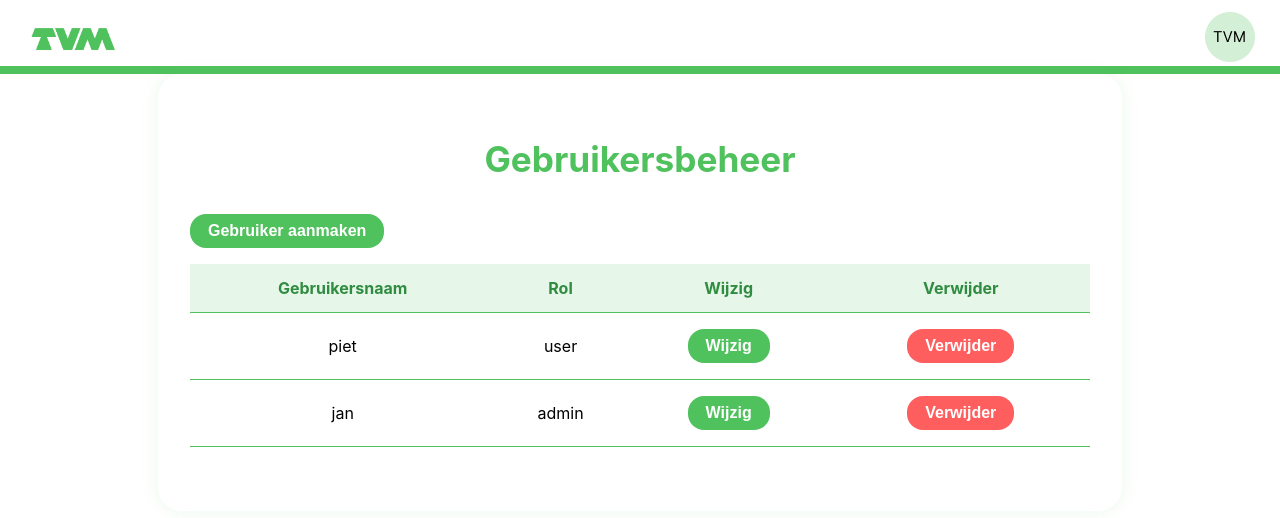
Test: kan toevoegen van gebruiker annuleren
# Open het formulier
Click the button "Gebruiker aanmaken".
click(287, 231)  # box [190,214,384,248]
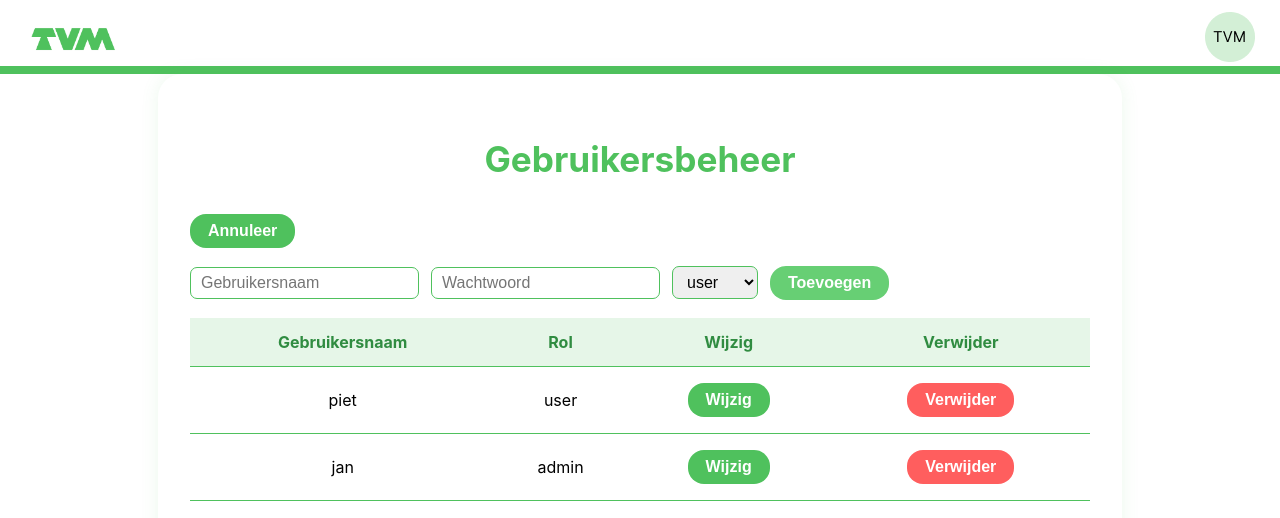
# Klik op Annuleer
Click the button "Annuleer".
click(243, 231)  # box [190,214,295,248]
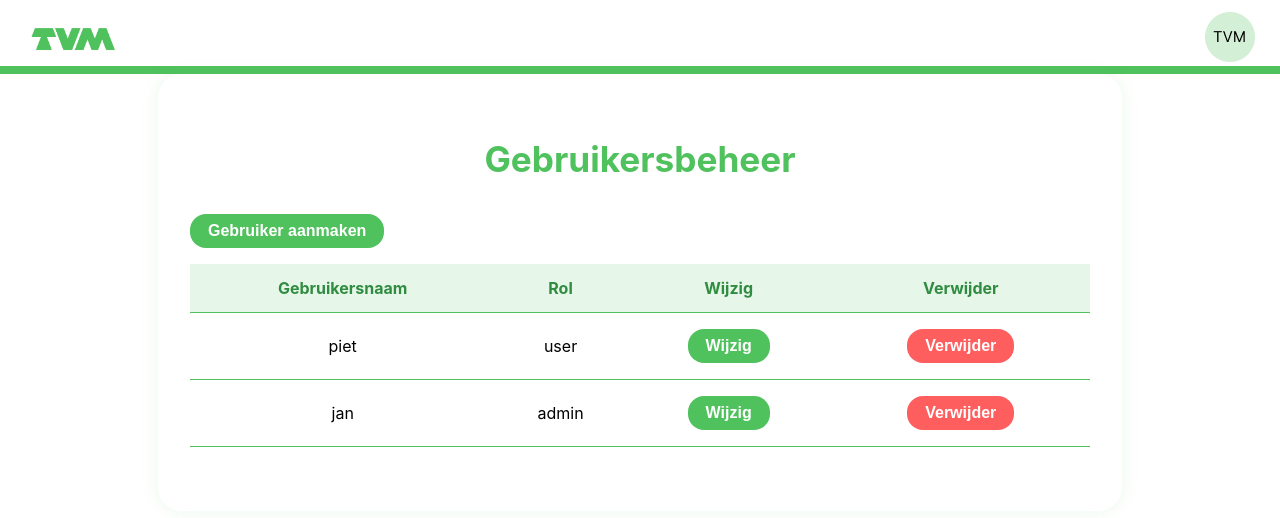
Result: the button "Toevoegen" is gone
